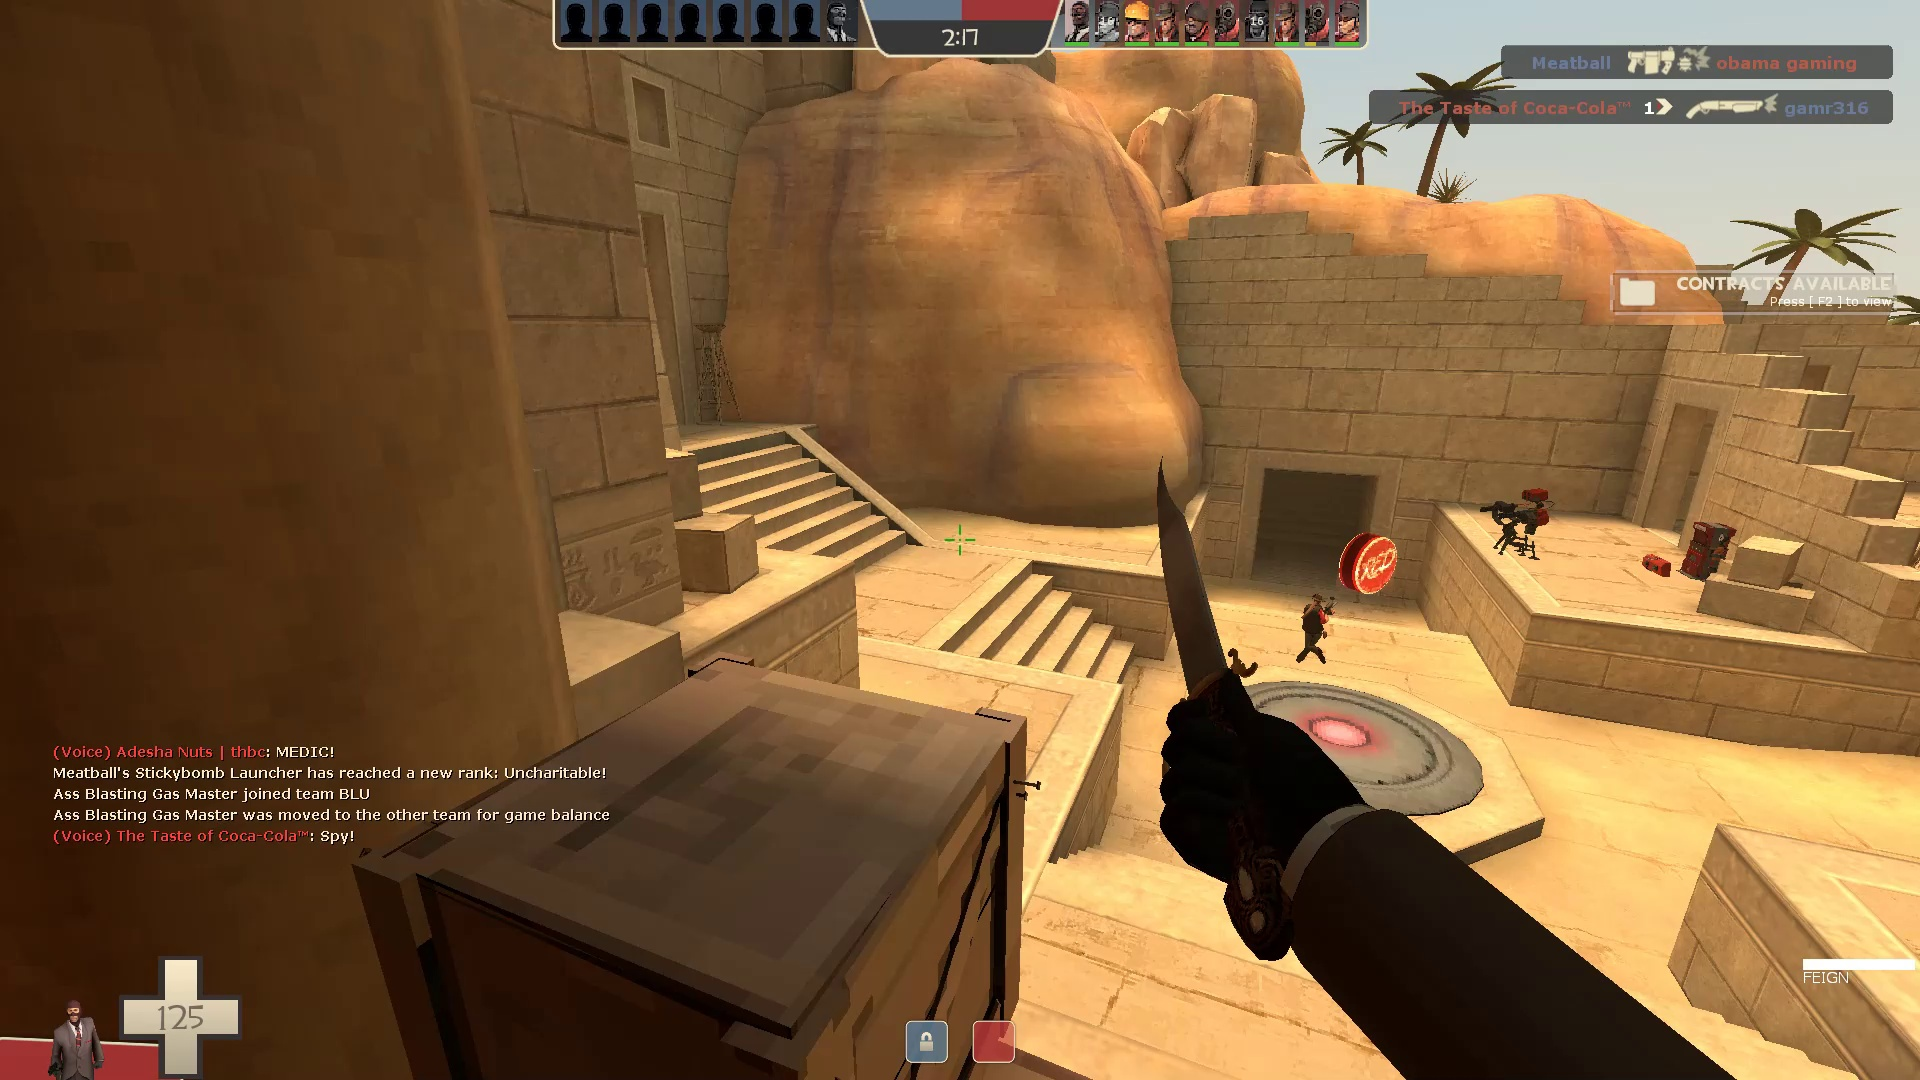red_dispenser: (1671, 513, 1745, 588)
red_sentry_3: (1476, 484, 1556, 564)
red_sniper: (1294, 588, 1341, 666)
